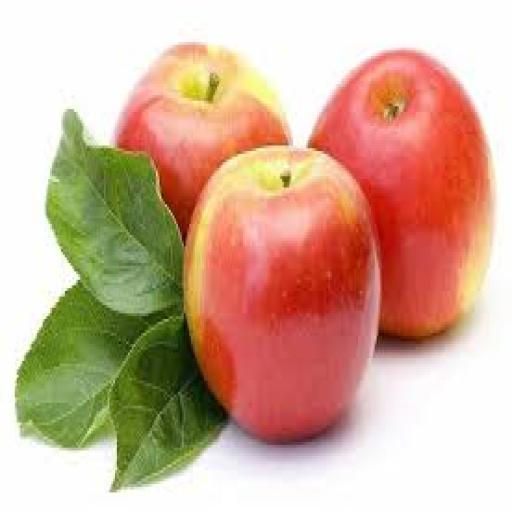apple: (184, 146, 380, 442), (310, 51, 493, 338), (116, 45, 289, 235)
